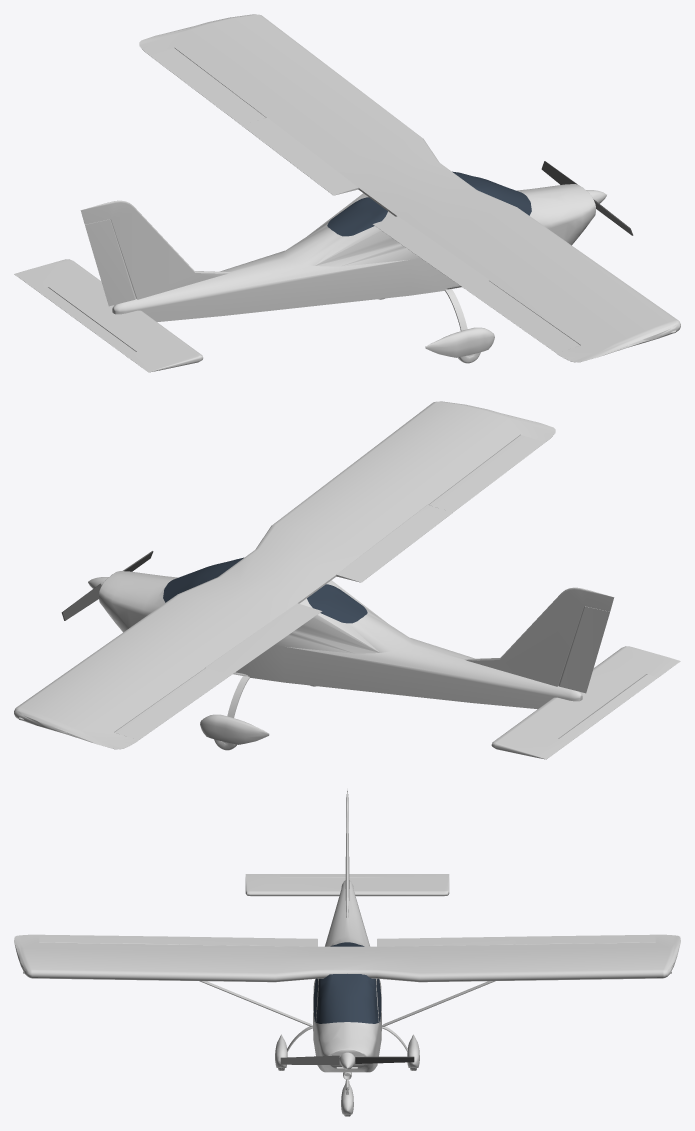
3 views of the same model, one above another, from view 1: azimuth 30°, elevation 25°; view 2: azimuth 150°, elevation 25°; view 3: azimuth 270°, elevation 25° (orthographic). The views are drawn at different scales.
Visible parts, largest first — view 1: body, glass, spin; view 2: body, glass, spin; view 3: body, glass, spin.
Part boxes in pixels (box(x1,y1,x2,y2)): body: box(14, 14, 680, 372); glass: box(327, 171, 531, 236); spin: box(541, 161, 633, 235); body: box(14, 401, 680, 759); glass: box(163, 557, 367, 623); spin: box(61, 551, 153, 620); body: box(14, 788, 680, 1116); glass: box(313, 942, 381, 1023); spin: box(280, 1055, 414, 1064).
Bounding box in the file's own units: 1.52 × 0.565 × 2.2.
